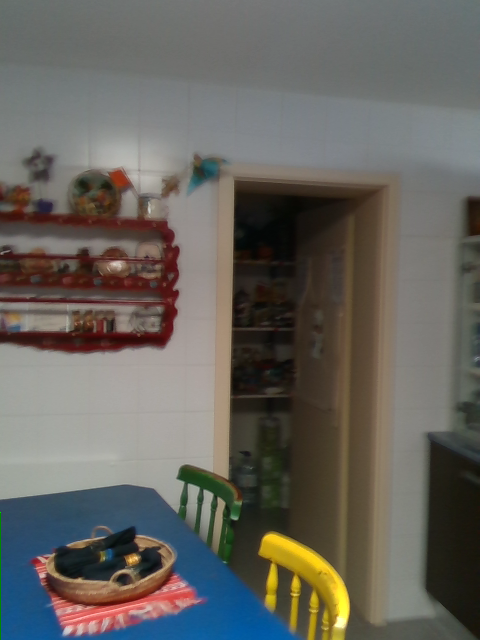open: (211, 165, 402, 627)
